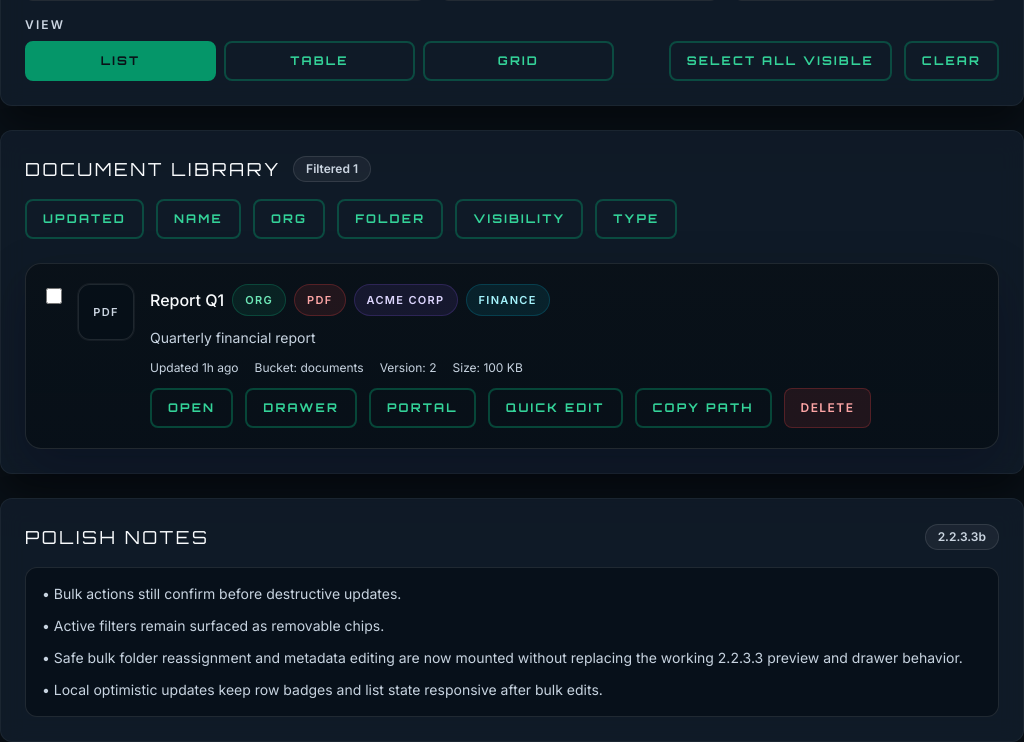
Test: AdminDocumentsCenterClient › drawer › closes drawer when Close button clicked
(page scrolled)
What coordinates should you click on to do the following:
click the button "Drawer"
I would click on:
 (301, 408)
Its box is [245,388,357,428].
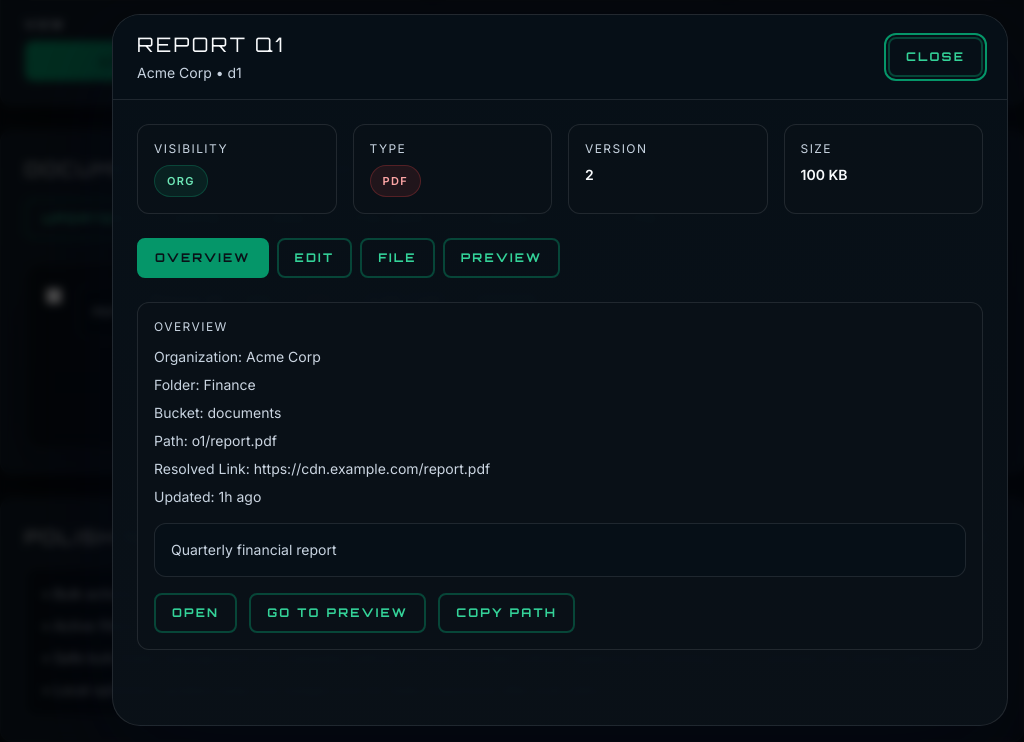
What coordinates should you click on to do the following:
click the button "Close"
I would click on:
 (935, 57)
Its box is [888,37,983,77].
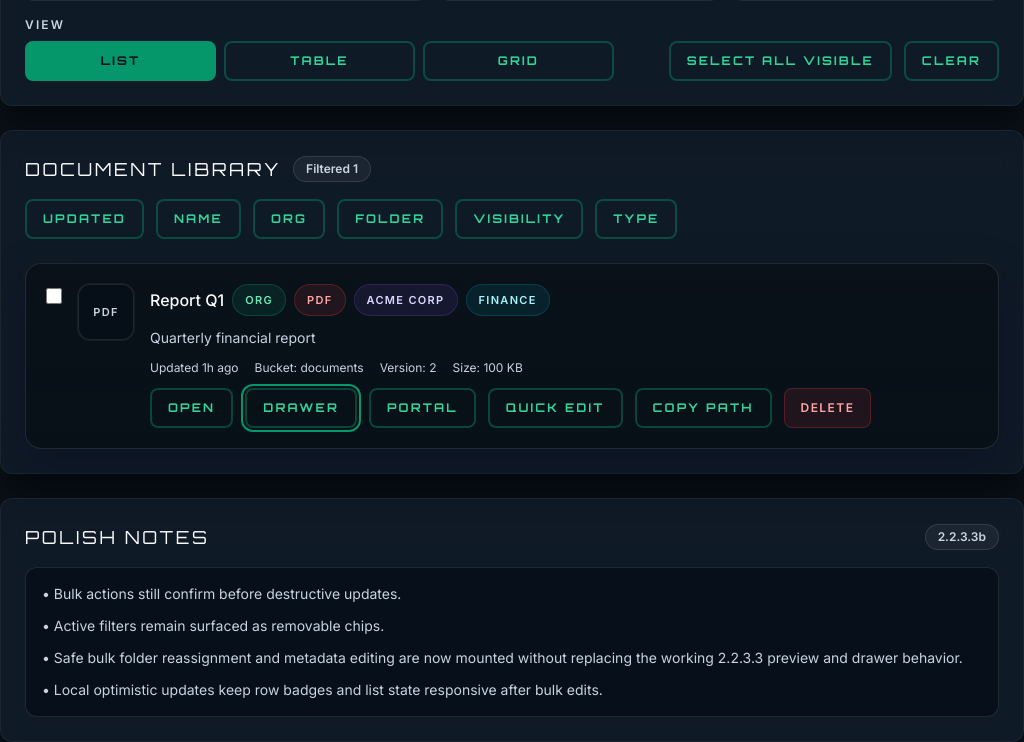
Result: the button "Overview" is gone
